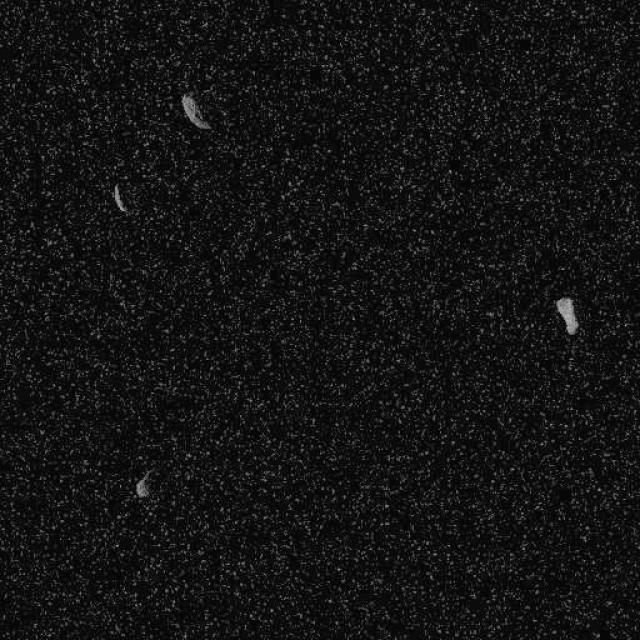D2: (178, 90, 212, 130), (555, 295, 579, 335), (134, 469, 154, 499), (111, 182, 129, 214)
